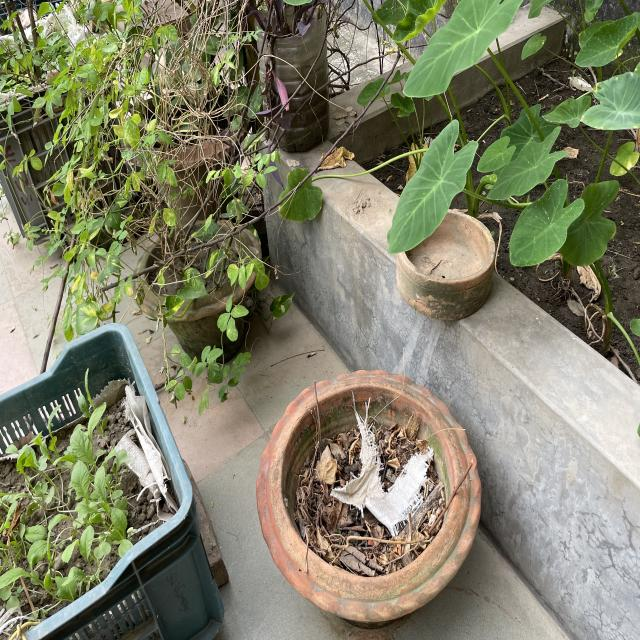Breeding Place: (0, 325, 199, 640), (256, 370, 480, 624), (132, 164, 266, 344), (0, 0, 82, 256), (389, 206, 495, 324), (268, 0, 328, 161)
